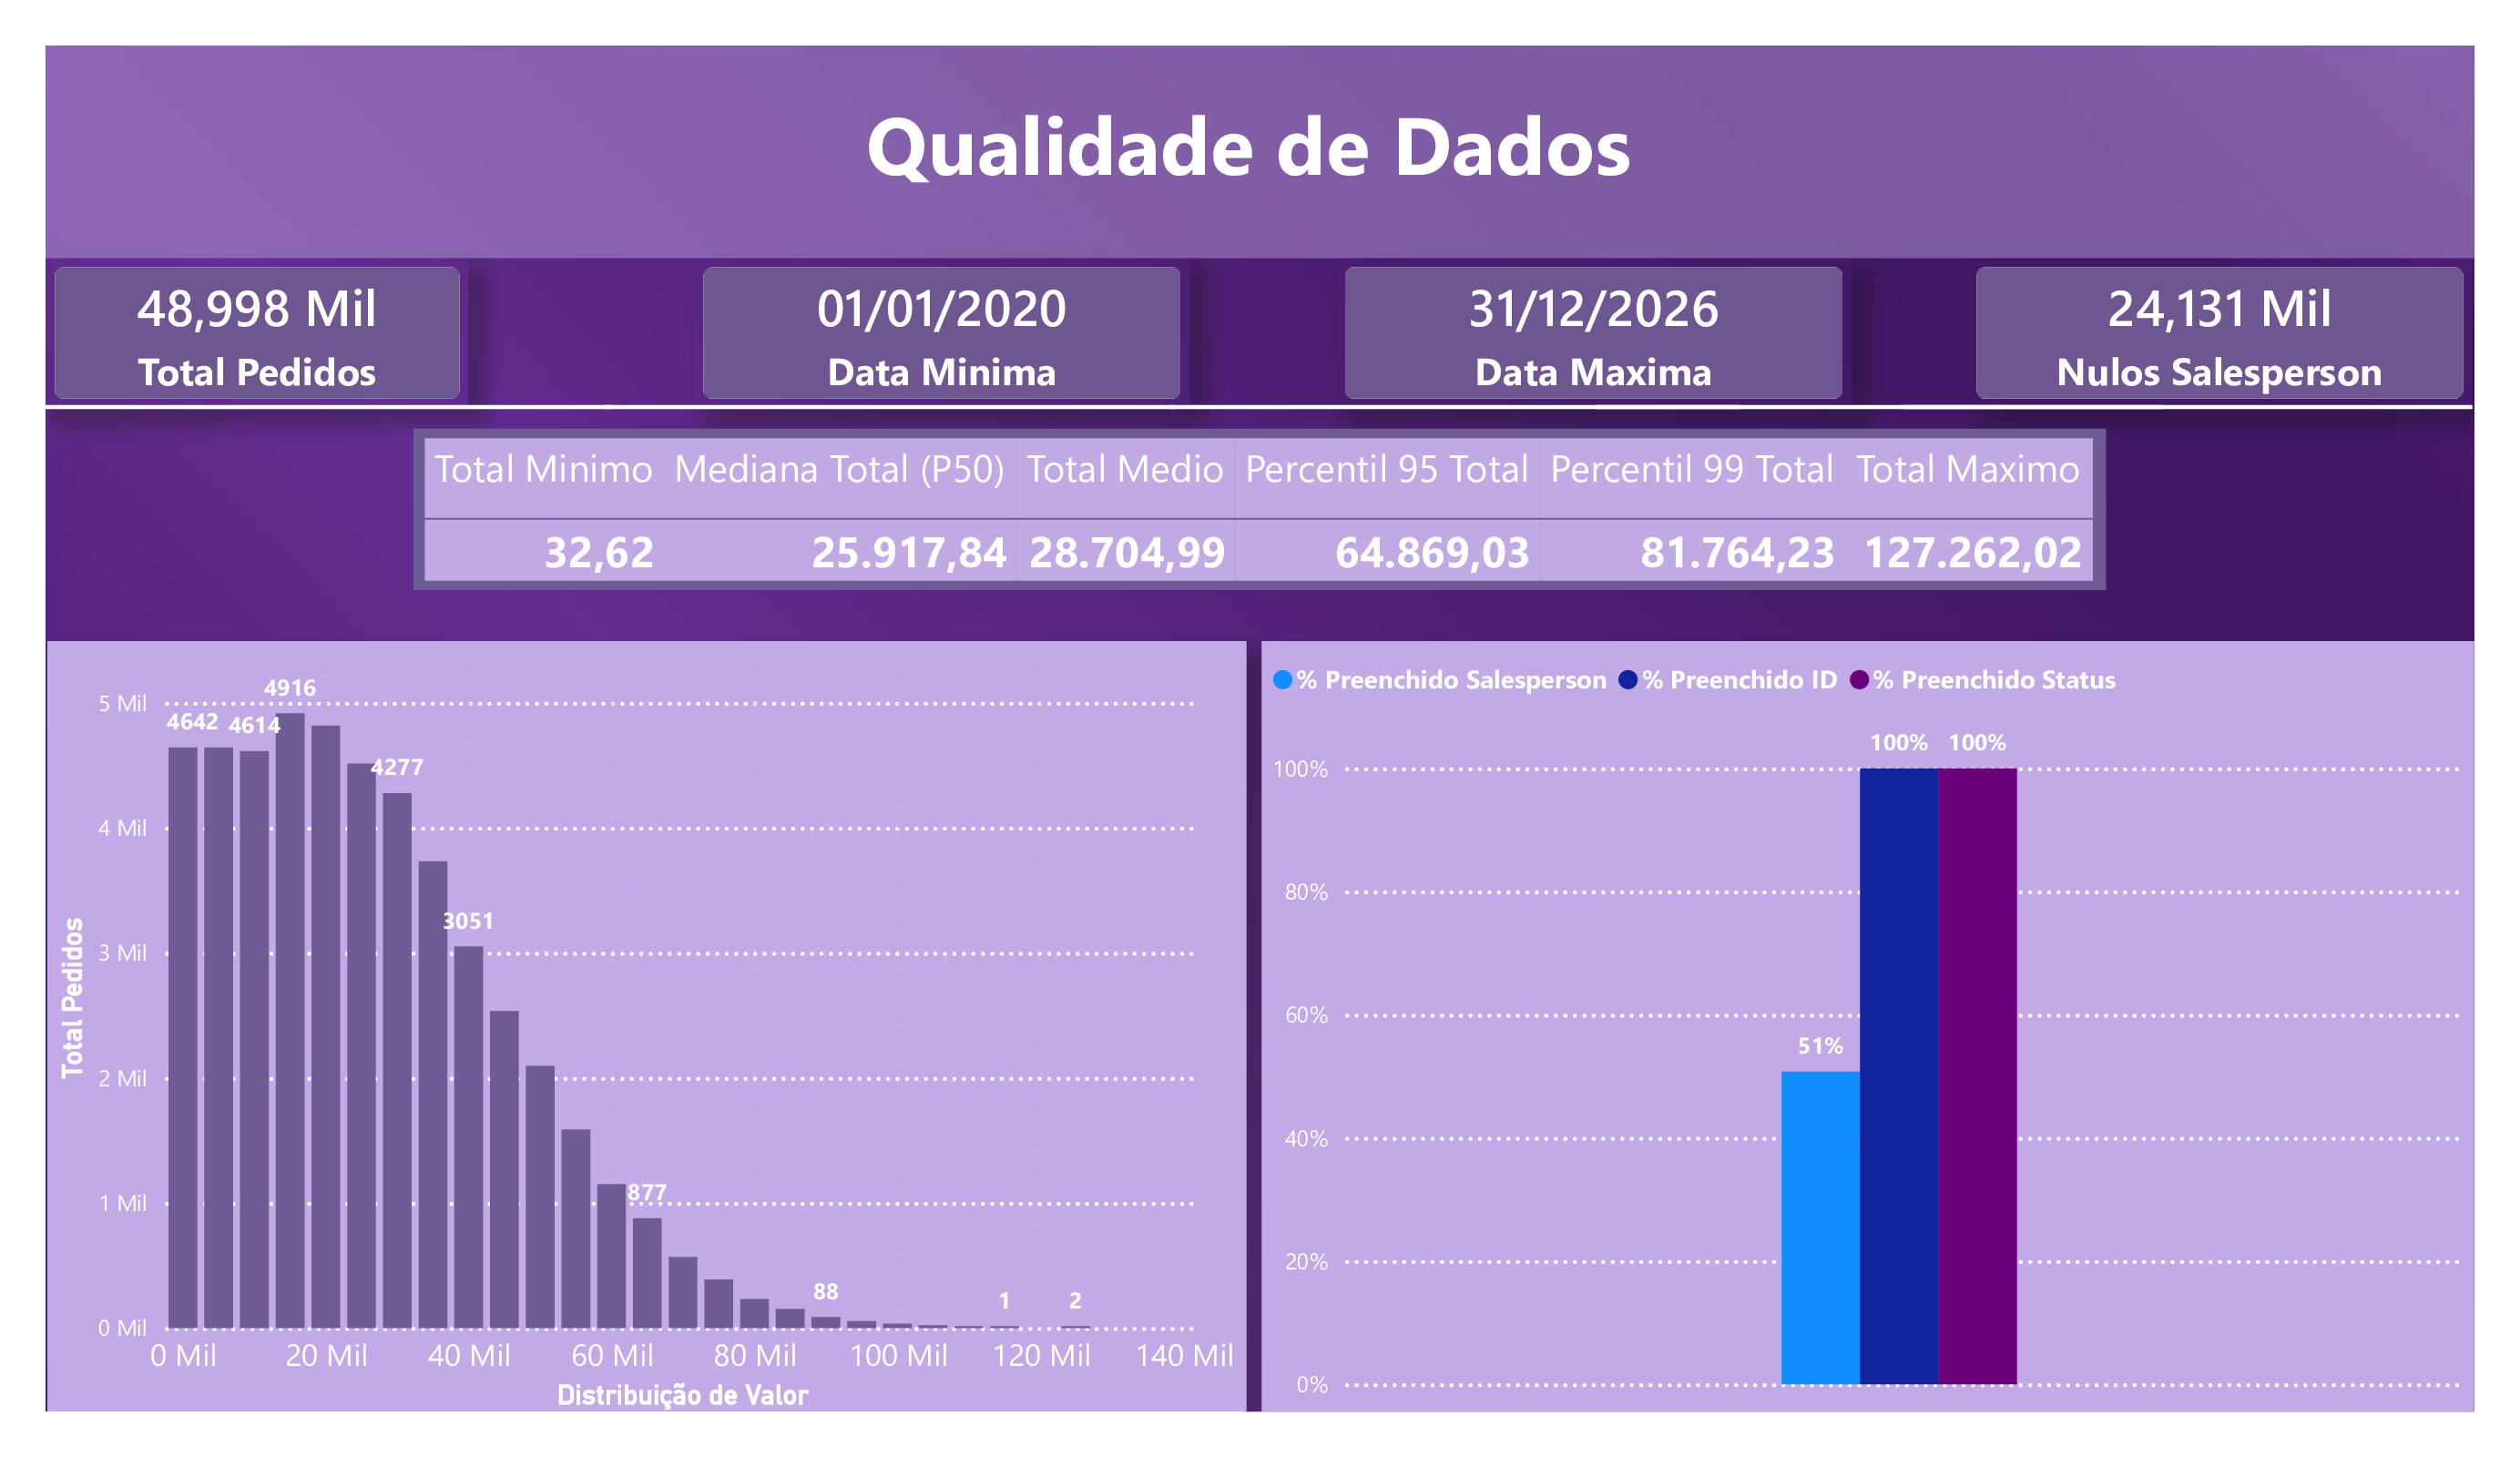

The dashboard page shown, as its layout file describes it:
{"tool":"powerbi","page":{"name":"Página 1","canvas":[1280,720],"ordinal":0},"visuals":[{"type":"cardVisual","fields":{"Data":["public orders.Data Minima"]},"box":[342.3,111.7,260.7,78.9],"z":0},{"type":"cardVisual","fields":{"Data":["public orders.Total Pedidos"]},"box":[0,111.7,223.4,78.9],"z":1000},{"type":"cardVisual","fields":{"Data":["public orders.Data Maxima"]},"box":[680.1,111.7,272.2,78.9],"z":2000},{"type":"cardVisual","fields":{"Data":["public orders.Nulos Salesperson"]},"box":[1013.5,111.7,265.1,78.9],"z":3000},{"type":"clusteredColumnChart","fields":{"Category":["public orders.total (compartimentos)"],"Y":["public orders.Total Pedidos"]},"box":[0.9,313.9,632.2,410.5],"z":4000},{"type":"tableEx","fields":{"Values":["public orders.Total Minimo","public orders.Mediana Total (P50)","public orders.Total Medio","public orders.Percentil 95 Total","public orders.Percentil 99 Total","public orders.Total Maximo"]},"box":[194.2,202.2,892,85.1],"z":5000},{"type":"clusteredColumnChart","title":"Taxa de Preenchimento (%)","fields":{"Y":["public orders.% Preenchido Salesperson","public orders.% Preenchido ID","public orders.% Preenchido Status"]},"box":[641.1,313.9,639.3,406.1],"z":6000},{"type":"shape","box":[-0.2,184.3,299.6,12.6],"z":7000},{"type":"shape","box":[295.4,184.3,299.6,12.6],"z":8000},{"type":"shape","box":[593.1,184.3,299.6,12.6],"z":9000},{"type":"shape","box":[979.2,178.5,299.6,24.3],"z":10000},{"type":"shape","box":[816.8,178.5,299.6,24.3],"z":11000},{"type":"textbox","box":[0,0,1280.4,111.7],"z":12001}]}

Visuals, with their boxes on the page's 1280x720 design canvas (x1, y1, x2, y2). These are canvas units, not pixel positions in the 2520x1457 screenshot, which may show the page scaled, cropped or inside an application window:
cardVisual - public orders.Data Minima: [left=342, top=112, right=603, bottom=191]
cardVisual - public orders.Total Pedidos: [left=0, top=112, right=223, bottom=191]
cardVisual - public orders.Data Maxima: [left=680, top=112, right=952, bottom=191]
cardVisual - public orders.Nulos Salesperson: [left=1014, top=112, right=1279, bottom=191]
clusteredColumnChart - public orders.total (compartimentos) x public orders.Total Pedidos: [left=1, top=314, right=633, bottom=724]
tableEx - public orders.Total Minimo x public orders.Mediana Total (P50): [left=194, top=202, right=1086, bottom=287]
"Taxa de Preenchimento (%)" clusteredColumnChart: [left=641, top=314, right=1280, bottom=720]
shape: [left=0, top=184, right=299, bottom=197]
shape: [left=295, top=184, right=595, bottom=197]
shape: [left=593, top=184, right=893, bottom=197]
shape: [left=979, top=178, right=1279, bottom=203]
shape: [left=817, top=178, right=1116, bottom=203]
textbox: [left=0, top=0, right=1280, bottom=112]
